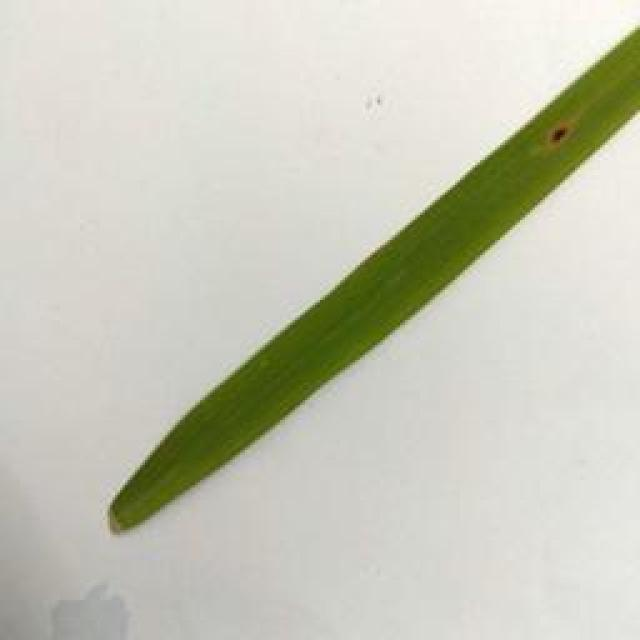Brown_Spot: (543, 124, 577, 148)
